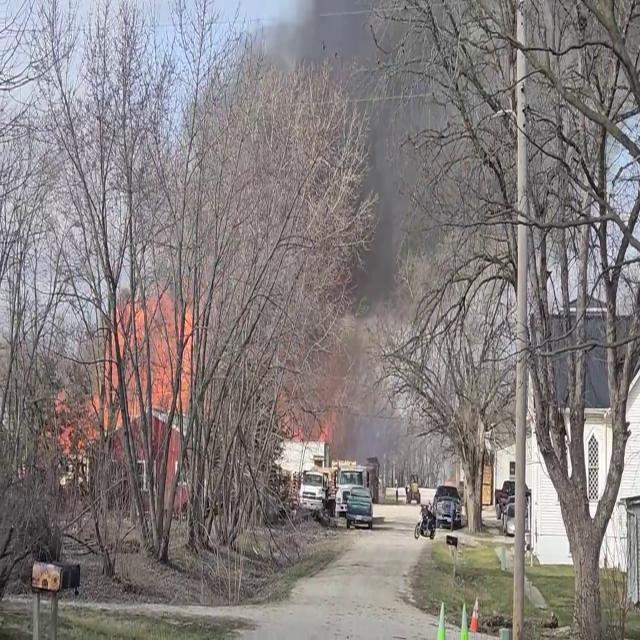Fire: (99, 268, 197, 424)
Smoke: (299, 0, 468, 333)
